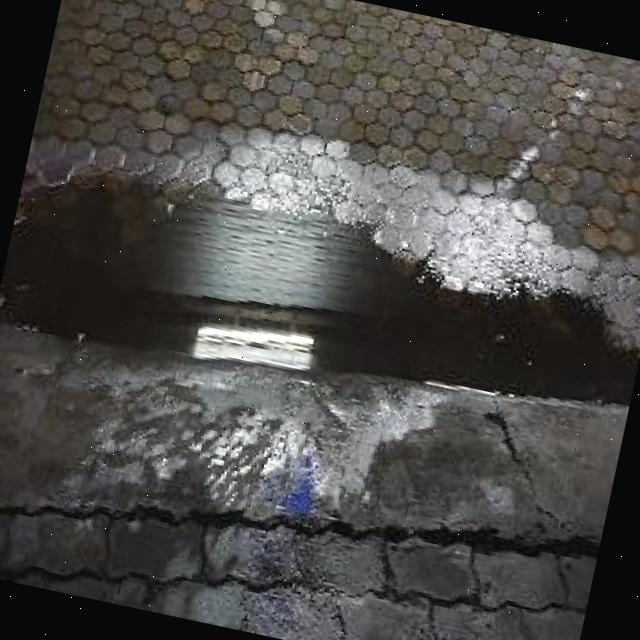stagnation: (0, 93, 640, 452)
